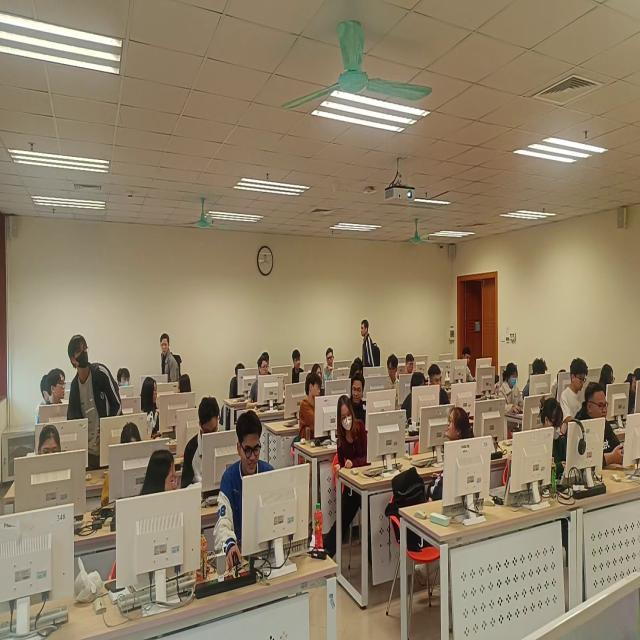raise_head: (249, 356, 273, 410), (323, 345, 338, 386), (291, 347, 305, 382)
stand: (62, 331, 123, 476), (158, 326, 185, 389), (360, 318, 382, 369)
using_computer: (215, 407, 276, 567), (183, 390, 220, 496), (97, 419, 140, 509), (539, 392, 568, 487), (562, 357, 586, 414), (500, 360, 524, 415), (36, 419, 65, 464), (524, 358, 550, 399), (429, 363, 453, 407), (403, 371, 423, 418), (227, 360, 246, 398), (460, 345, 475, 382), (601, 364, 619, 392), (407, 352, 417, 375), (350, 362, 362, 380)
using_phone: (573, 378, 628, 477)
